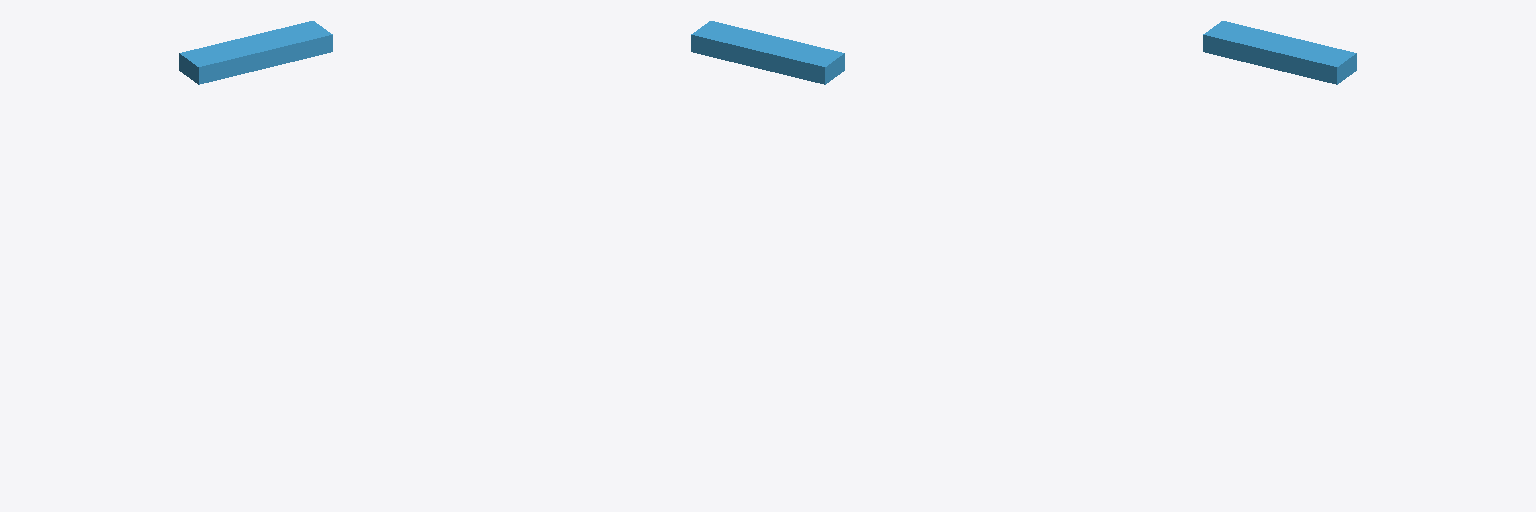
URDF robot description (newRail):
<?xml version="1.0" ?>
<robot name="newRail">

  <!-- root link, on the ground just below the model origin -->
  <link name="base_footprint">
   <visual>
      <origin xyz="0 0 0" rpy="0 0 0" />
      <geometry>
        <box size="0.001 0.001 0.001" />
      </geometry>
    </visual>
  </link>

  <joint name="base_link_joint" type="fixed">
    <origin xyz="0.0 0 1.25" rpy="0 0 0" />
    <parent link="base_footprint"/>
    <child link="base_link" />
  </joint>

  <!-- the model -->
  <link name="base_link">
    <inertial>
      <mass value="50" />
      <origin xyz="0 0 -1.25" />
      <inertia ixx="50.0" ixy="0.0" ixz="0.0"
        iyy="50.0" iyz="0.0"
        izz="50.0" />
    </inertial>
    <visual>
      <geometry>
        <box size="0.4 0.1 0.05" /> <!-- does not need to match collision -->
      </geometry>
    </visual>
    <collision name="bumper_collision">
      <origin xyz="0 0 0" />
      <geometry>
        <box size="0.41 0.11 0.051" /> <!-- does not need to match collision -->
      </geometry>
    </collision>
  </link>
	
<gazebo reference="base_link">
<sensor name="main_bumper" type="contact">
    <selfCollide>true</selfCollide>
    <alwaysOn>true</alwaysOn>
    <updateRate>15.0</updateRate>
    <material>Gazebo/Red</material>
    <contact>
       <collision>base_footprint_fixed_joint_lump__bumper_collision_collision</collision>
    </contact>
    <plugin name="gazebo_ros_bumper_controller" filename="libgazebo_ros_bumper.so">   
        <bumperTopicName>bumper_vals</bumperTopicName>
        <frameName>world</frameName>
    </plugin>
</sensor>
</gazebo>
  
  <gazebo>
    <plugin name="object_controller" filename="libgazebo_ros_planar_move.so">
      <commandTopic>cmd_vel</commandTopic>
      <odometryTopic>odom</odometryTopic>
      <odometryFrame>odom</odometryFrame>
      <odometryRate>20.0</odometryRate>
      <robotBaseFrame>base_footprint</robotBaseFrame>
    </plugin>
  </gazebo>
  

</robot>

--- What the picture shows (computed from the rendered views, not written in the file) ---
Views: 3 orthographic renders of the robot side by side, from view 1: azimuth 30°, elevation 25°; view 2: azimuth 150°, elevation 25°; view 3: azimuth 330°, elevation 25°.
Model newRail with 2 links and 1 joints (1 fixed), rooted at base_footprint, posed all joints at 0.
Visible links, largest first — view 1: base_link; view 2: base_link; view 3: base_link.
Link boxes in pixels (x1=…): base_link: x1=179, y1=21, x2=332, y2=84; base_link: x1=691, y1=21, x2=844, y2=84; base_link: x1=1203, y1=21, x2=1356, y2=84.
Size in the robot's own frame: 0.4 by 0.1 by 1.28 metres.
Geometry: primitives only (box / cylinder / sphere), no mesh files.
